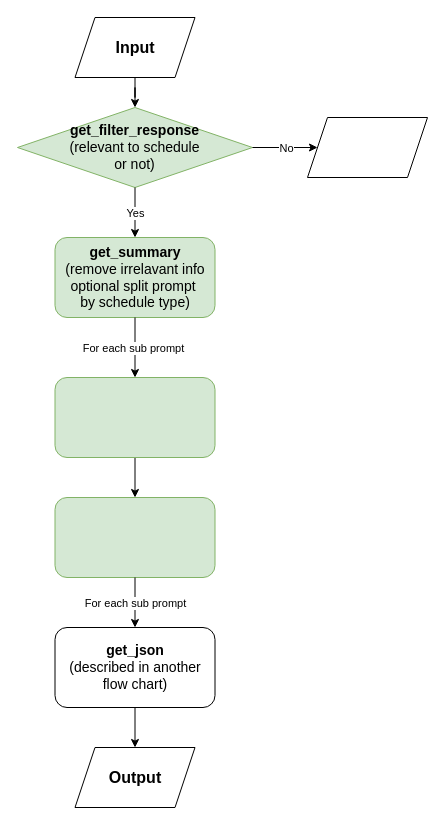
Image size: 445x825. Some labels were removed from this diagram. The shapes that lost their labels are listed below. From the top down, each one's box as (x1, y1, x2, y2) in pixels, then its label:
(306, 116, 428, 178): Return
(54, 376, 215, 458): get_type
(54, 496, 215, 578): get_split_prompt (depending on type if further splitting is needed)
